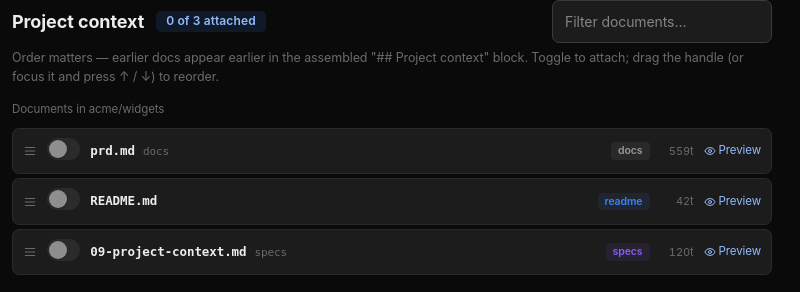
ContextTab (agent editor) › disables the reorder handle and drag while a filter is active
Expected: the text "README.md" is shown, x1=90 y1=192 x2=157 y2=211
In the field labelled "Filter documents…": (674,22) x1=565 y1=11 x2=783 y2=32, type "readme"
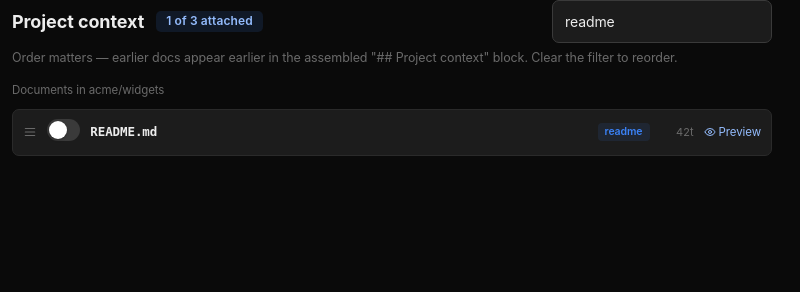
Expected: the button named "Reorder \"README.md\"" is disabled, x1=23 y1=125 x2=37 y2=139
